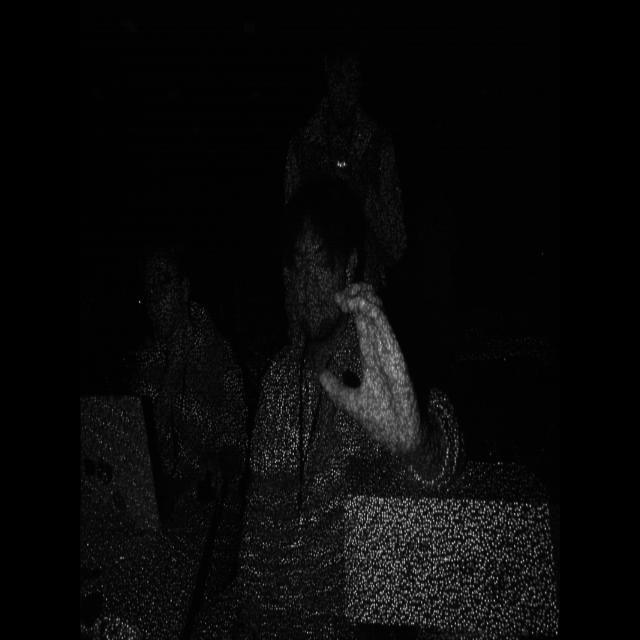C: (313, 272, 427, 461)
